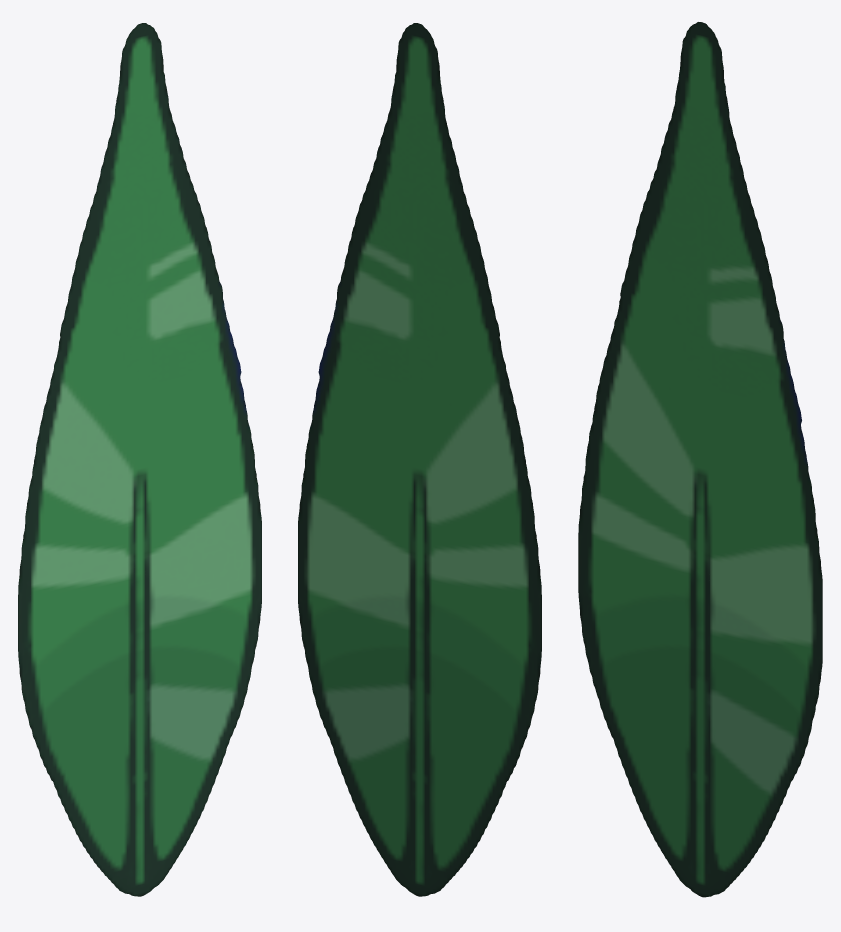
Rendered from HojaO.fbx.
The picture shows the model from 3 angles, left to right: view 1: azimuth 30°, elevation 25°; view 2: azimuth 150°, elevation 25°; view 3: azimuth 330°, elevation 25°; orthographic projection.
Parts seen in each view (by area): view 1: HojaO; view 2: HojaO; view 3: HojaO.
Part boxes in pixels (box(x1,y1,x2,y2)): HojaO: box(18, 23, 261, 896); HojaO: box(298, 23, 541, 896); HojaO: box(578, 22, 822, 897).
Size of the model in its own units: 0.1897 by 0.64 by 2.8e-08.
